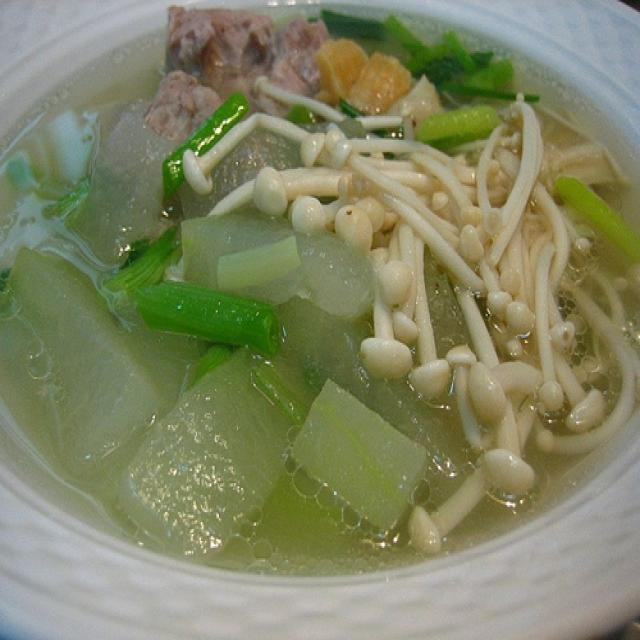汤锅炖物: (16, 16, 610, 604)
